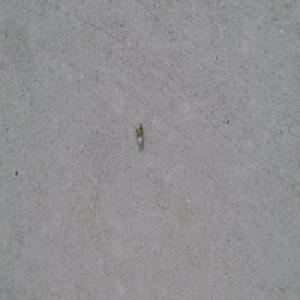BoltNutSet: (134, 123, 144, 145)
